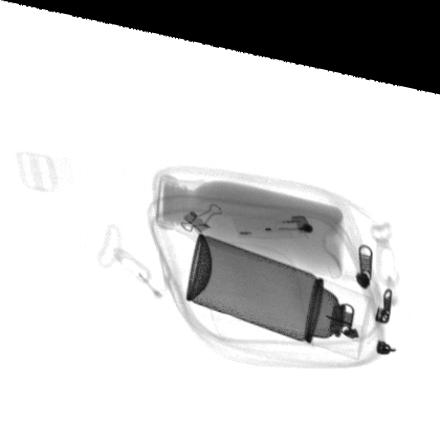Lighter: (230, 201, 315, 230)
Sprayer: (186, 225, 372, 345)
